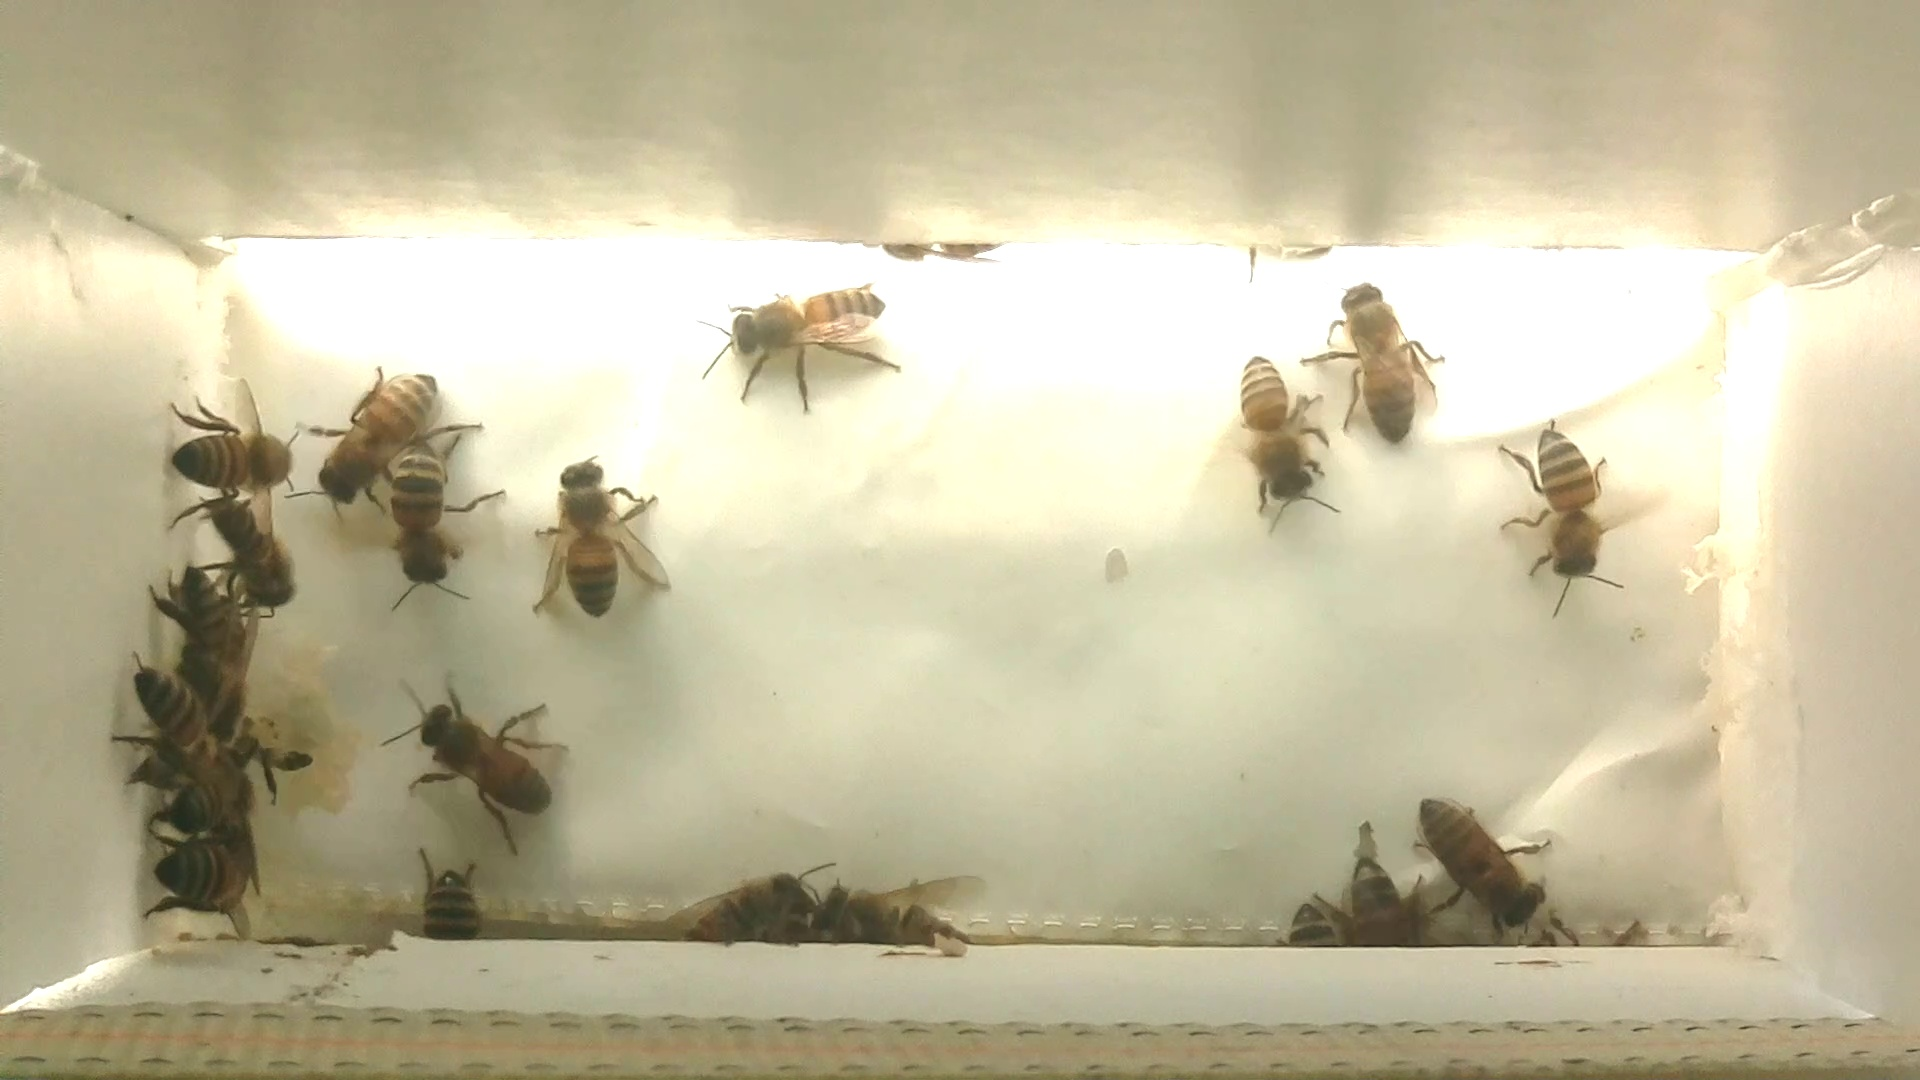bee: (369, 659, 589, 858), (1476, 404, 1646, 624), (289, 345, 500, 520), (518, 440, 688, 632), (684, 281, 920, 418), (1304, 266, 1470, 454), (367, 433, 506, 621), (1211, 348, 1349, 538), (1398, 789, 1568, 940), (146, 384, 313, 533), (820, 861, 986, 971), (647, 862, 829, 953), (164, 560, 268, 713), (131, 825, 273, 936), (113, 644, 228, 781), (208, 487, 320, 625), (390, 833, 495, 961), (148, 758, 284, 851), (1316, 855, 1435, 953), (1271, 894, 1331, 953)
